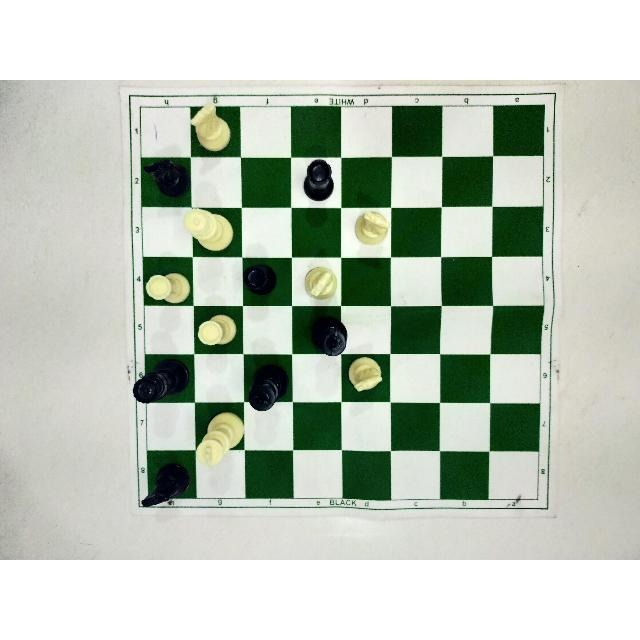black-king: (246, 361, 290, 413), (310, 314, 348, 357)
black-knight: (138, 460, 191, 508), (141, 159, 188, 201)
black-queen: (131, 357, 189, 405)
black-rook: (300, 156, 335, 203), (243, 260, 280, 296)
white-king: (192, 410, 246, 468)
white-knight: (186, 102, 233, 156), (346, 353, 383, 393), (302, 264, 338, 301), (354, 209, 390, 245)
white-queen: (181, 206, 236, 256)
white-rook: (146, 269, 192, 305), (195, 314, 238, 348)
